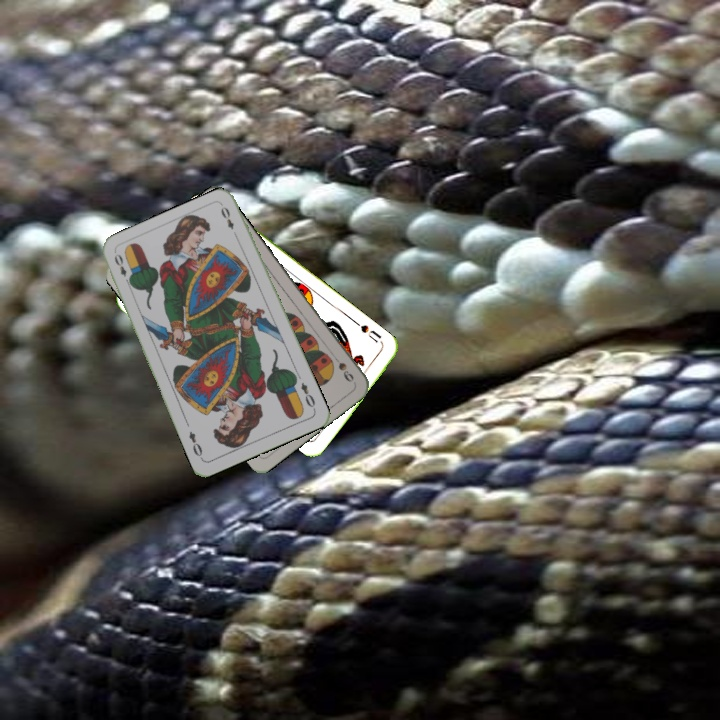EO: (110, 249, 134, 288), (297, 378, 318, 413)
S9: (329, 350, 357, 385)
SU: (356, 320, 384, 345)
